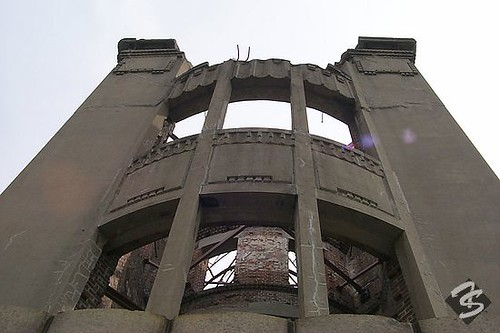building: (1, 29, 495, 329)
sky: (1, 1, 493, 152)
